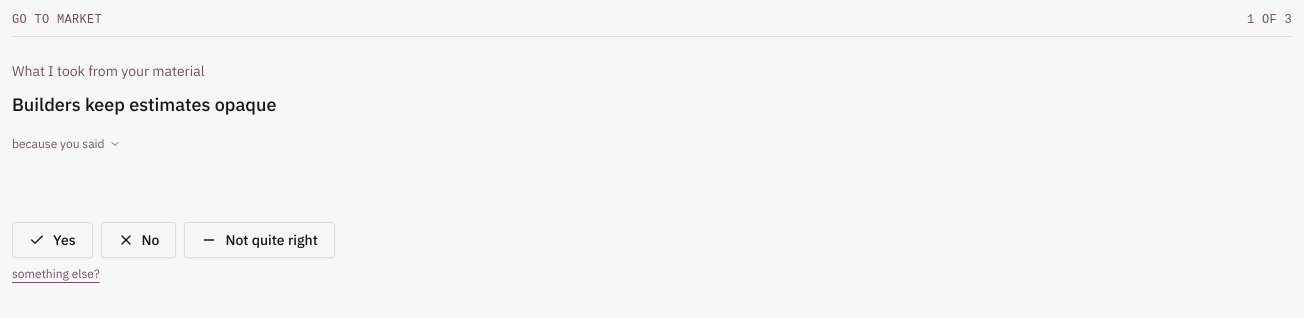
Test: ReviewPass › clears the remark between items
Click the button "something else?" at (56, 274), box [12,266,100,282]
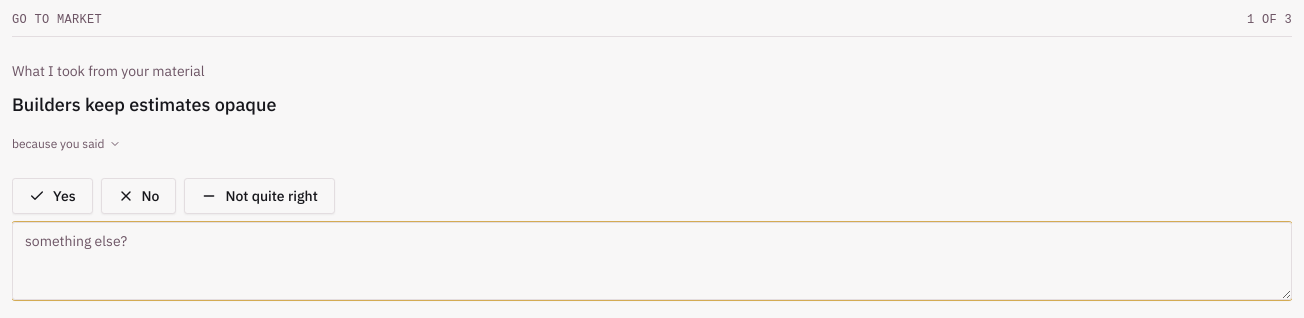
Type "a remark" into the text box at (652, 261), box [12,222,1292,300]
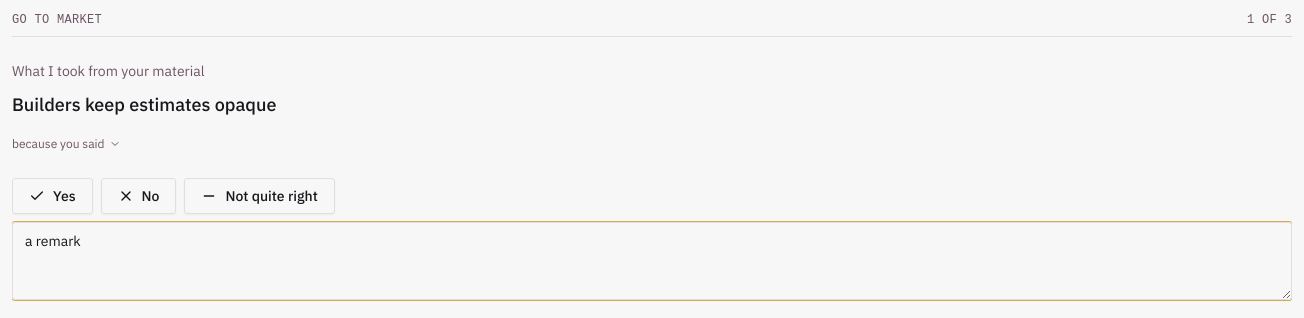
Click the button "Yes" at (52, 196), box [12,178,93,214]
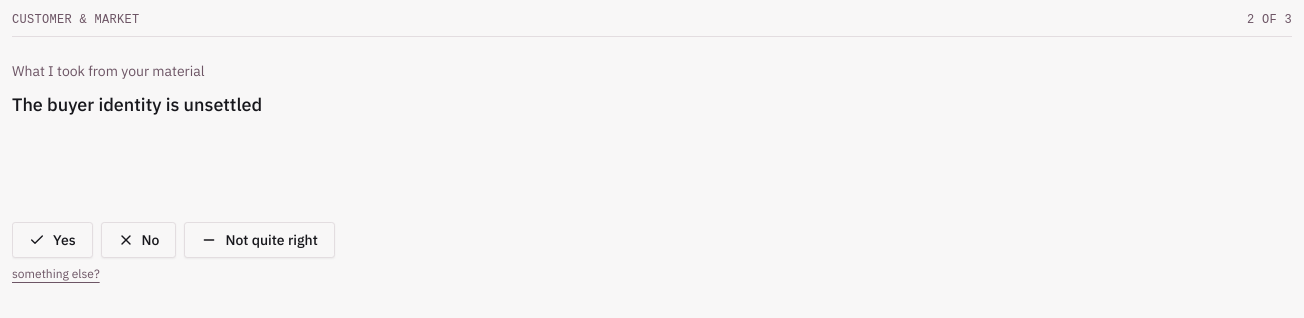
Expected: the text "The buyer identity is unsettled" is shown, [12,93,262,116]
